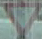Give way: (4, 1, 41, 36)
